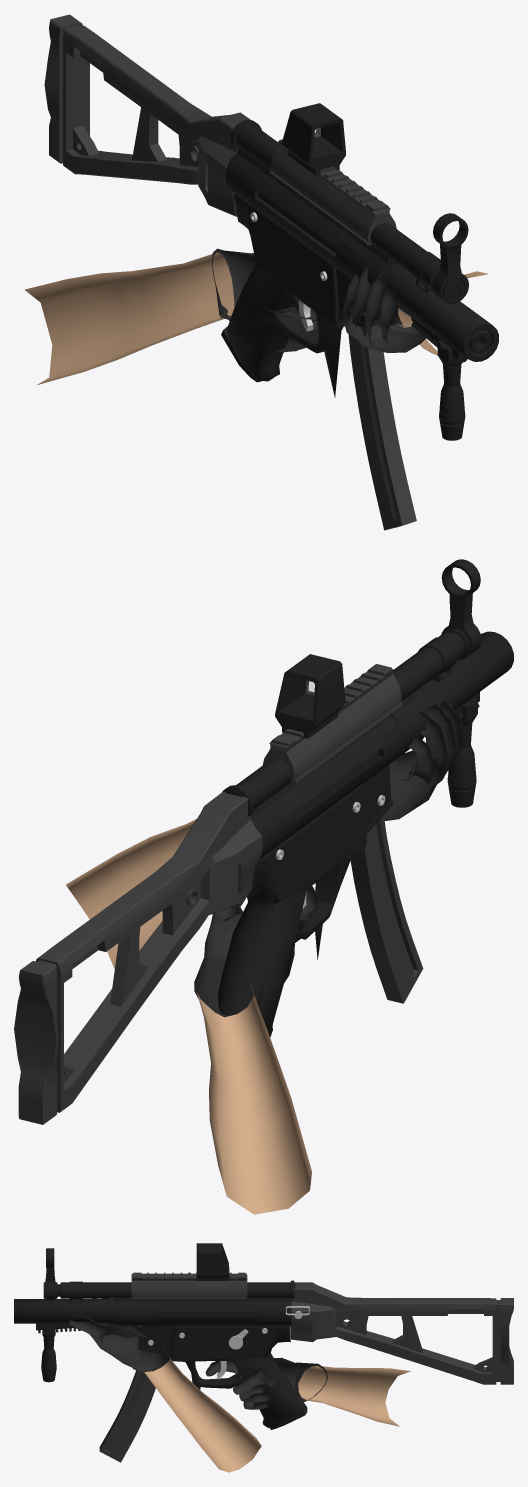
File: mp5-rig-2.glb
3 renders of one model, top to bottom at view 1: azimuth 30°, elevation 25°; view 2: azimuth 150°, elevation 25°; view 3: azimuth 270°, elevation 25°, orthographic. The views are drawn at different scales.
Parts seen in each view (by area): view 1: Plan012.010; view 2: Plan012.010; view 3: Plan012.010.
Boxes of the visible parts, box(x1,y1,x2,y2) form: Plan012.010: box(24, 14, 498, 530); Plan012.010: box(14, 559, 513, 1214); Plan012.010: box(14, 1243, 513, 1472).
Bounding box in the file's own units: 0.0757 × 0.0727 × 0.1544.
